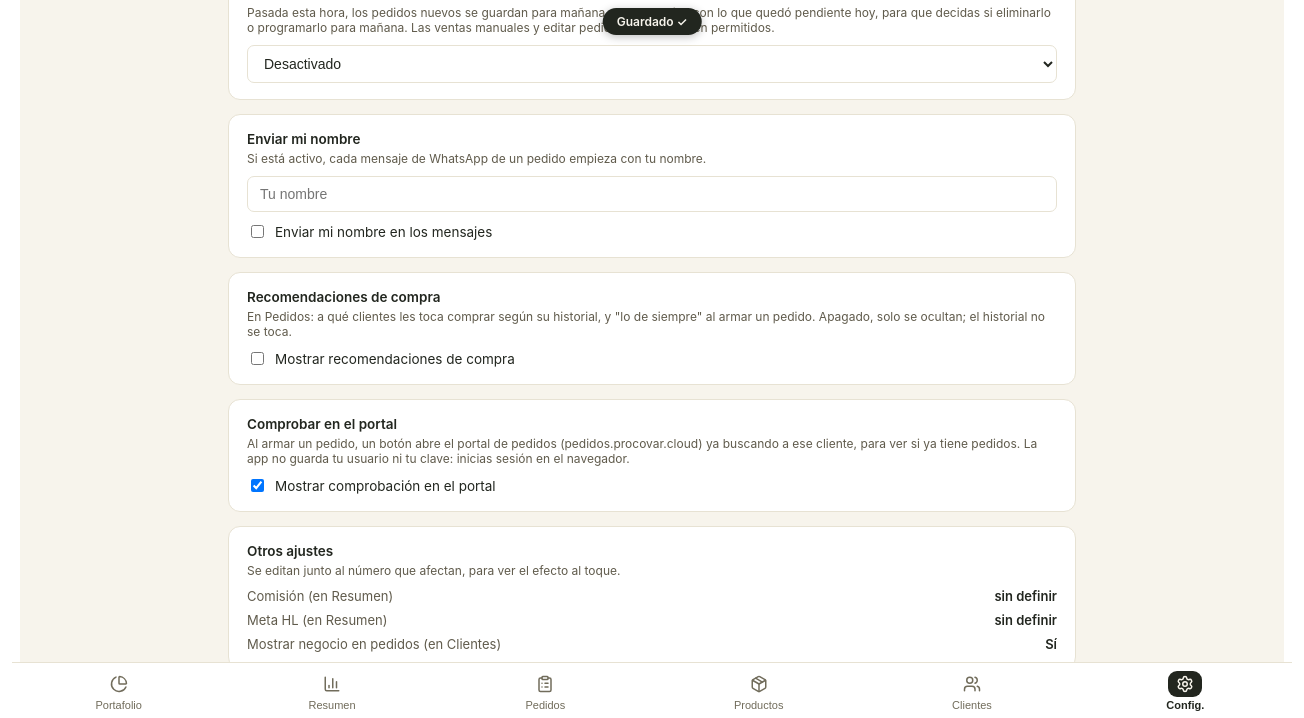
Test: Interruptor de recomendaciones de compra › volver a encenderlo trae la tarjeta, y el historial siguió intacto
This screenshot has width=1304, height=718.
(page scrolled)
Step 1. Click the checkbox labelled "Mostrar recomendaciones de compra" → (258, 358), box [251, 352, 264, 365]
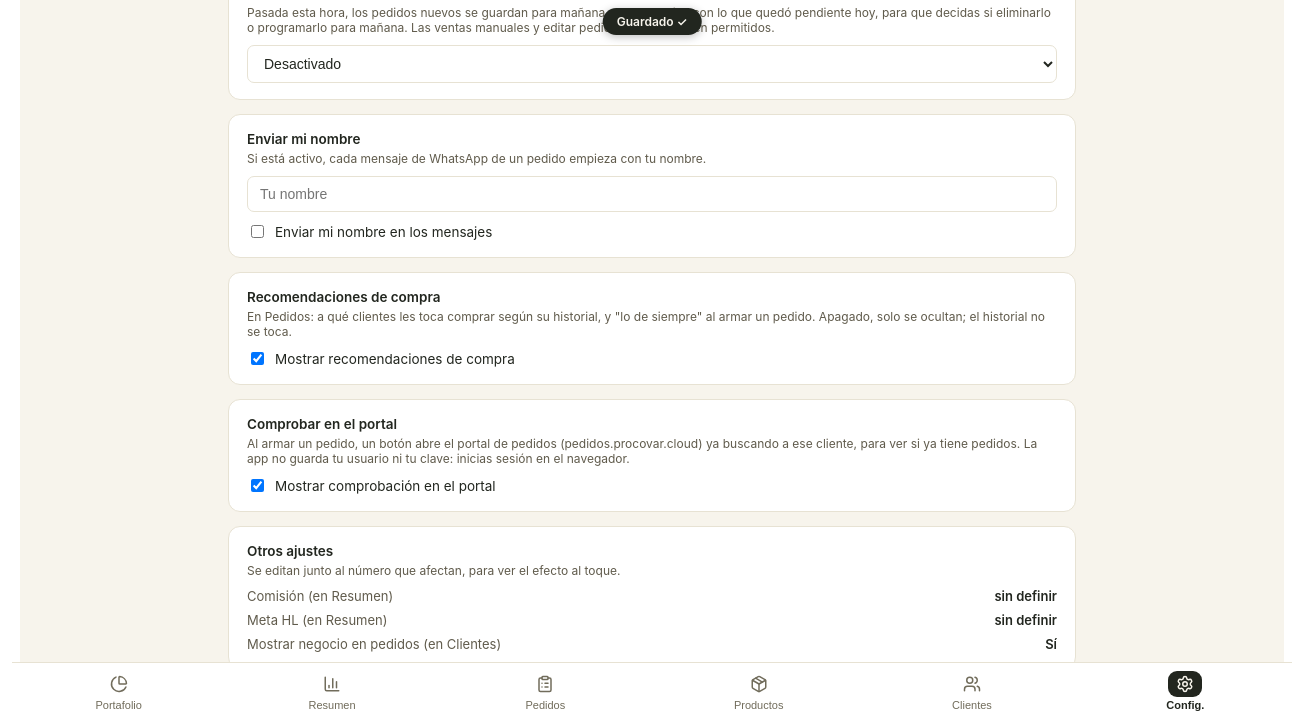
Step 2. Click the button "Pedidos" → (545, 690), box [439, 663, 652, 717]
(page scrolled)
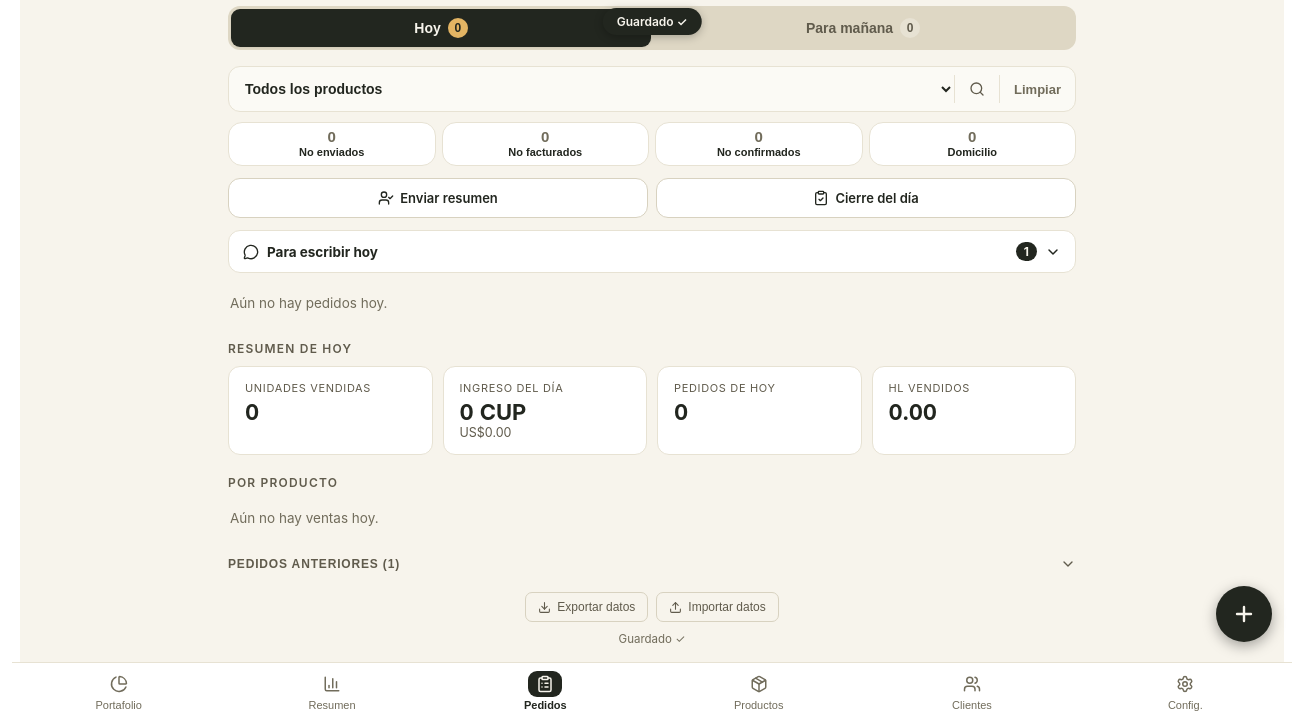
Now the button "Para escribir hoy 1" is shown, box [229, 231, 1075, 272]
